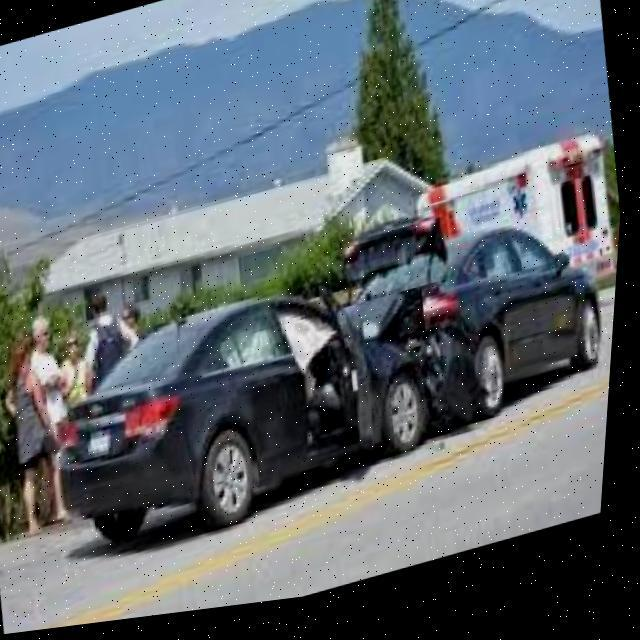Car Accident Detector - v4 Generation1 Exported: (35, 212, 626, 586)
